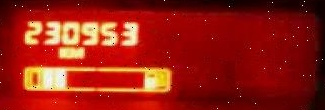0: (60, 20, 80, 46)
2: (21, 18, 41, 44)
3: (41, 18, 60, 45), (119, 20, 138, 46)
5: (98, 20, 119, 46)
9: (78, 19, 98, 44)
X: (68, 45, 84, 58), (56, 45, 68, 58)
